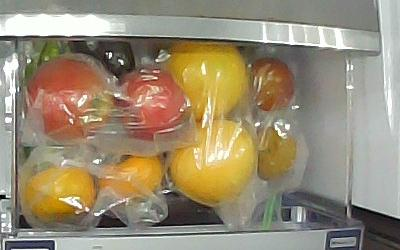apple_vinyl: (29, 58, 114, 144), (117, 68, 187, 141)
grapefruit_vinyl: (170, 120, 258, 207), (166, 41, 247, 119)
persimmon_vinyl: (25, 163, 98, 223), (100, 153, 165, 203)
prune_vinyl: (249, 57, 297, 112), (254, 124, 298, 178)
